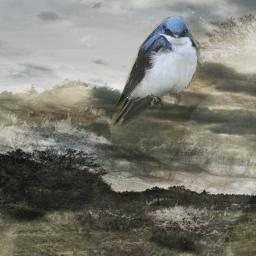Swallow: (110, 15, 200, 127)
